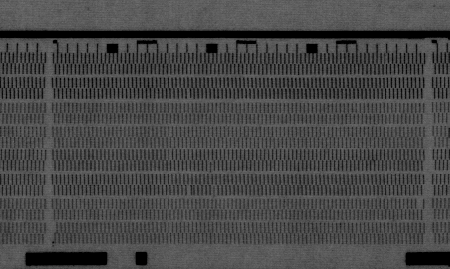Broken hole: (414, 199, 428, 211)
Oblique printing: (185, 183, 196, 197), (184, 88, 195, 101)
